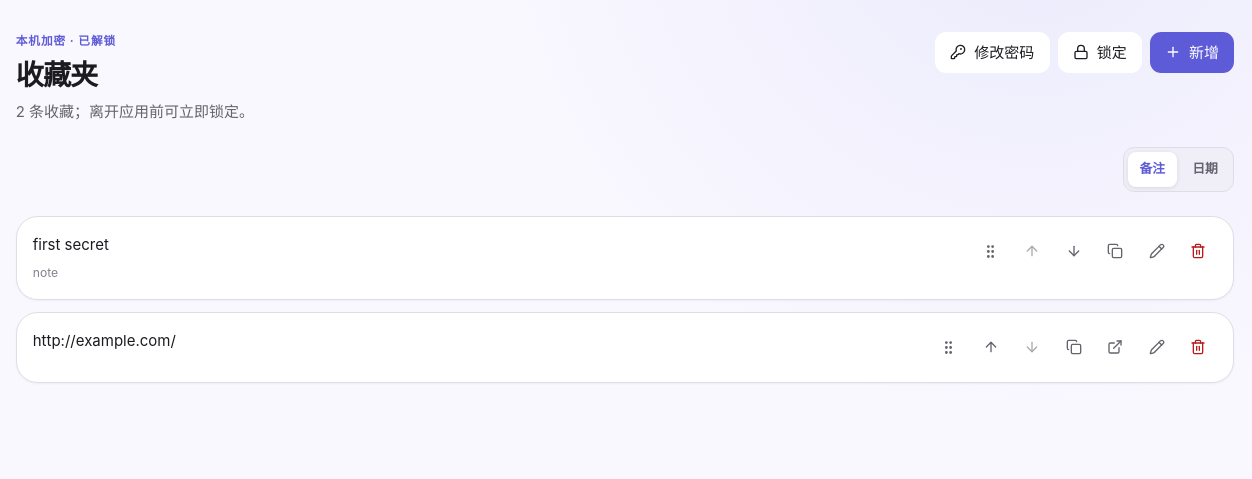
Test: VaultPage › locks explicitly and removes decrypted items from the frontend
Expected: the text "first secret" is shown, [33,234,109,254]
Step 1. Click the button "锁定" → x=1100, y=52, box [1058,32,1142,73]
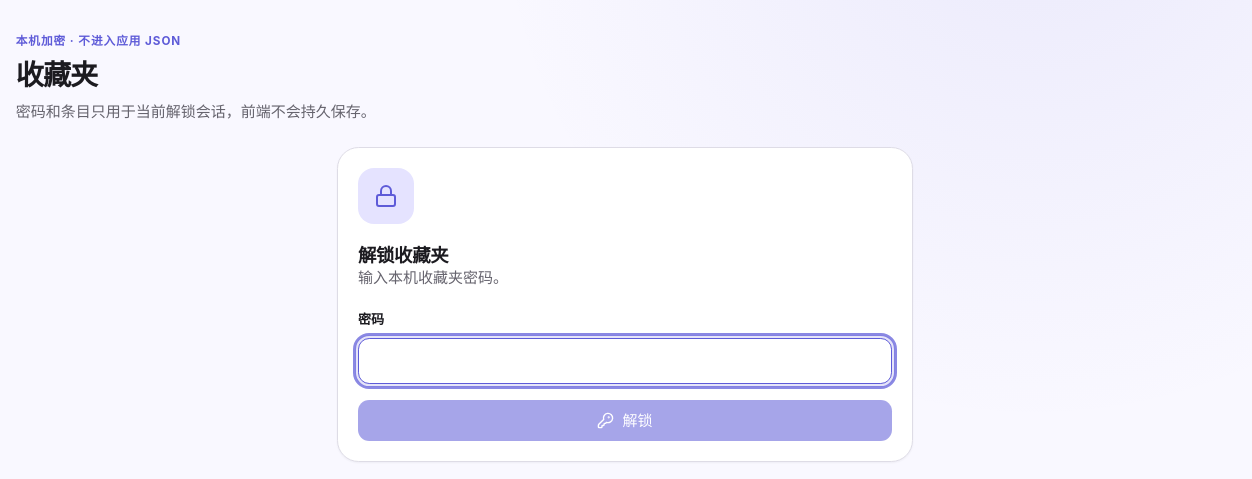
Result: the heading "解锁收藏夹" is shown at [358,242,448,267]
Result: the text "first secret" is gone
